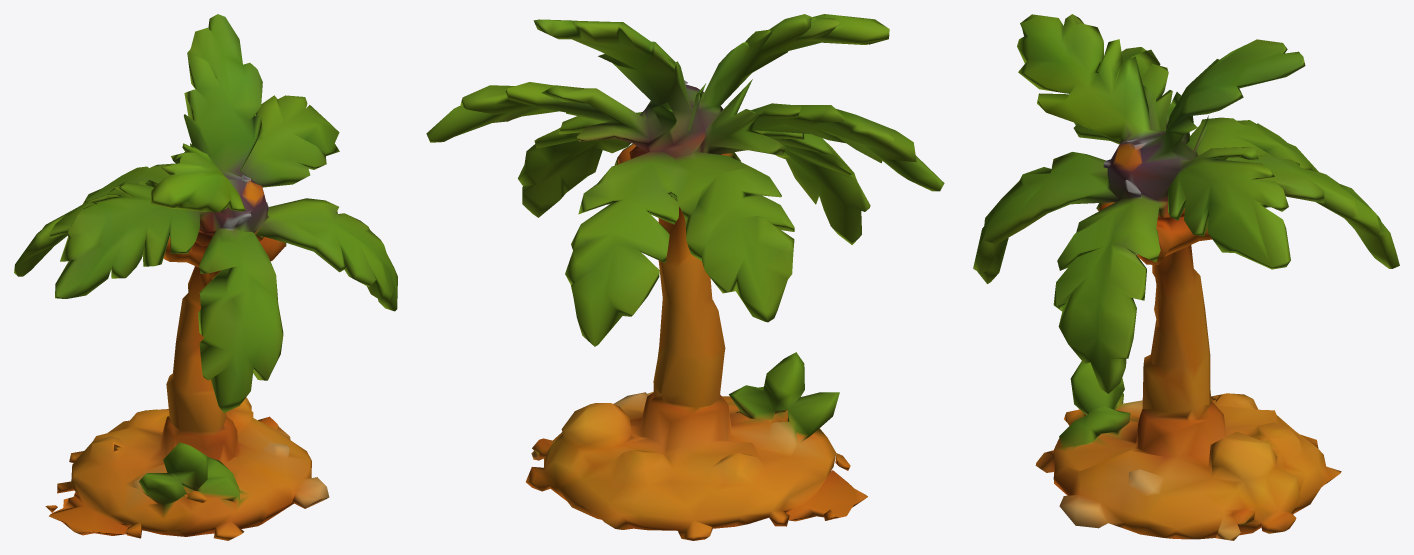
File: palmeira.glb
The picture shows the model from 3 angles, left to right: view 1: azimuth 30°, elevation 25°; view 2: azimuth 150°, elevation 25°; view 3: azimuth 270°, elevation 25°; orthographic projection. The views are drawn at different scales.
Visible parts, largest first — view 1: prop; view 2: prop; view 3: prop.
Part boxes in pixels (bbox=[...]): prop: bbox=[14, 14, 397, 540]; prop: bbox=[426, 14, 944, 540]; prop: bbox=[973, 14, 1399, 540].
Size of the model in its own units: 0.8913 by 0.9769 by 0.8049.
